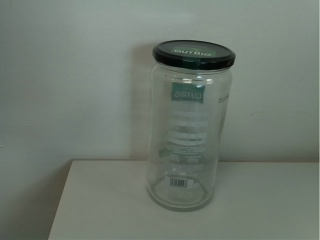pote cristal: (143, 36, 239, 214)
